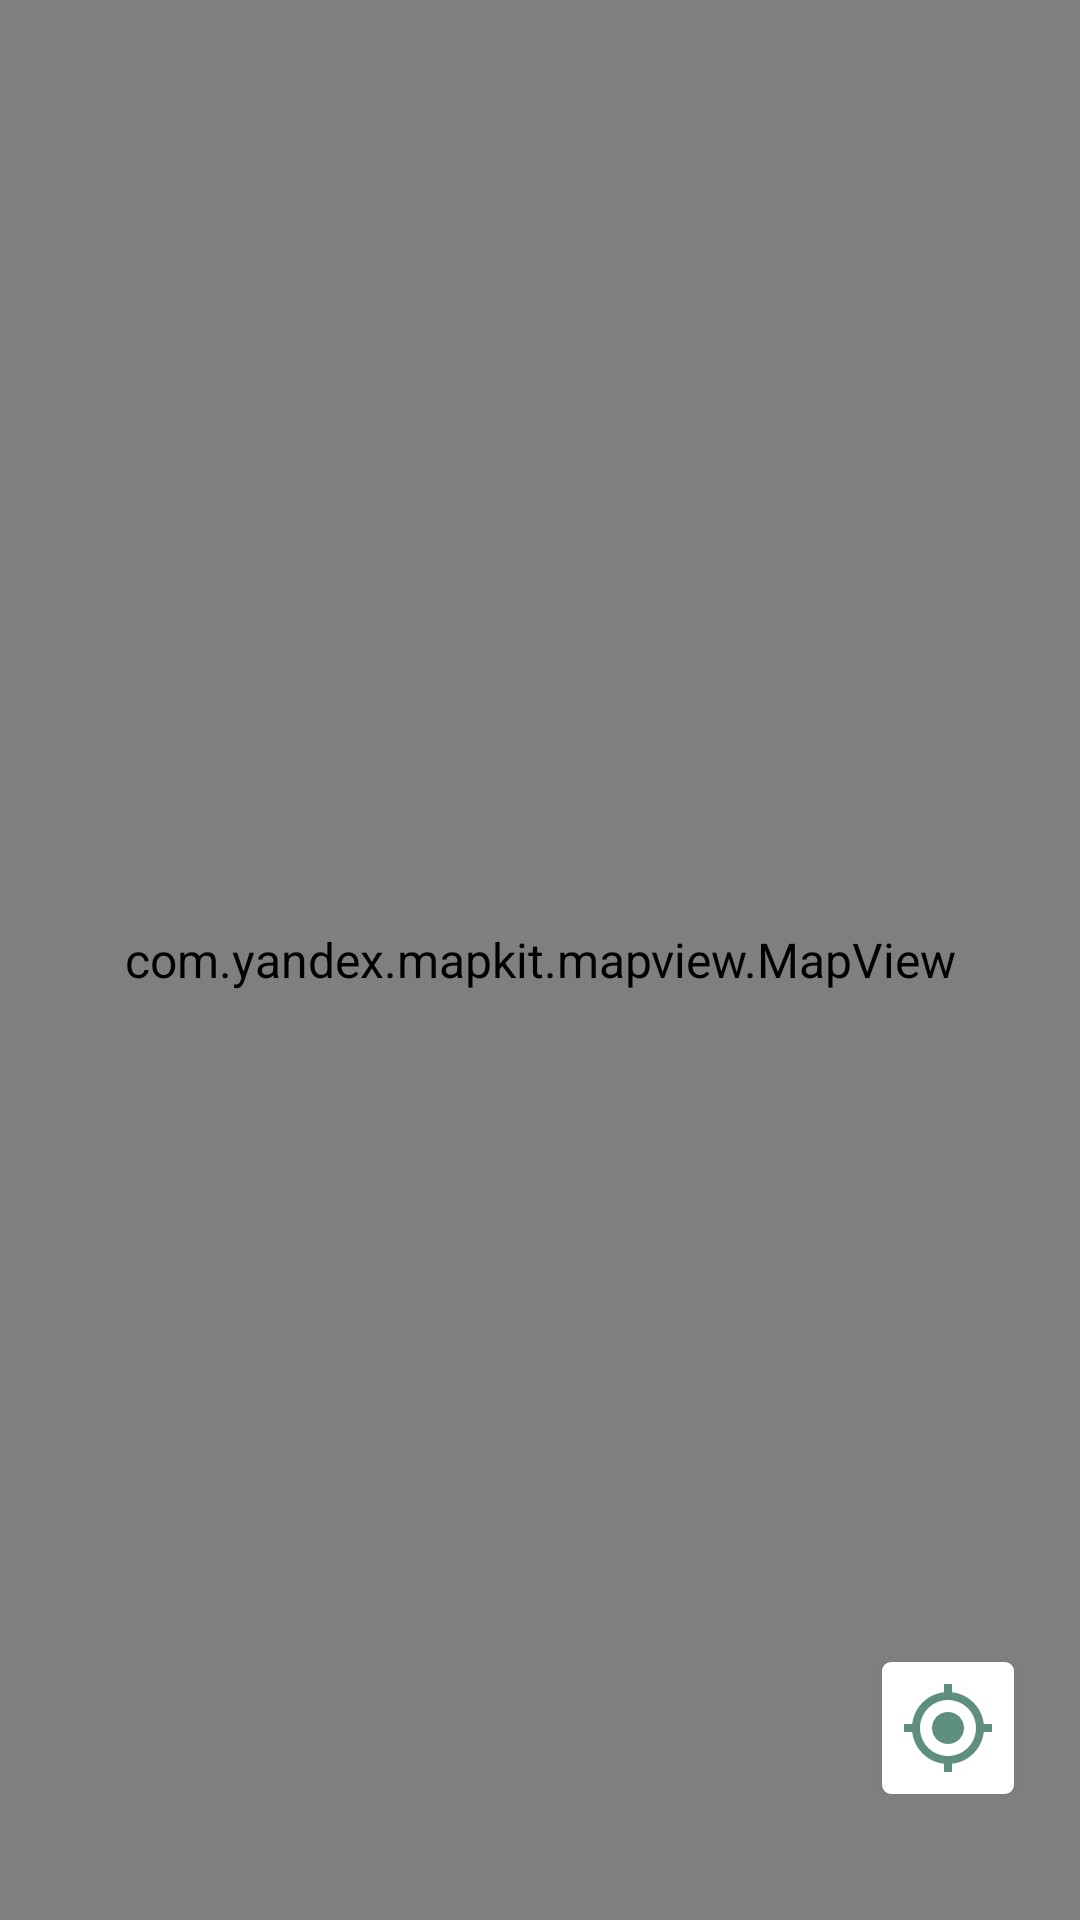

Named icons in this screenshot (1080x1920) and their centers, point (x, y):
location: point (948, 1728)
